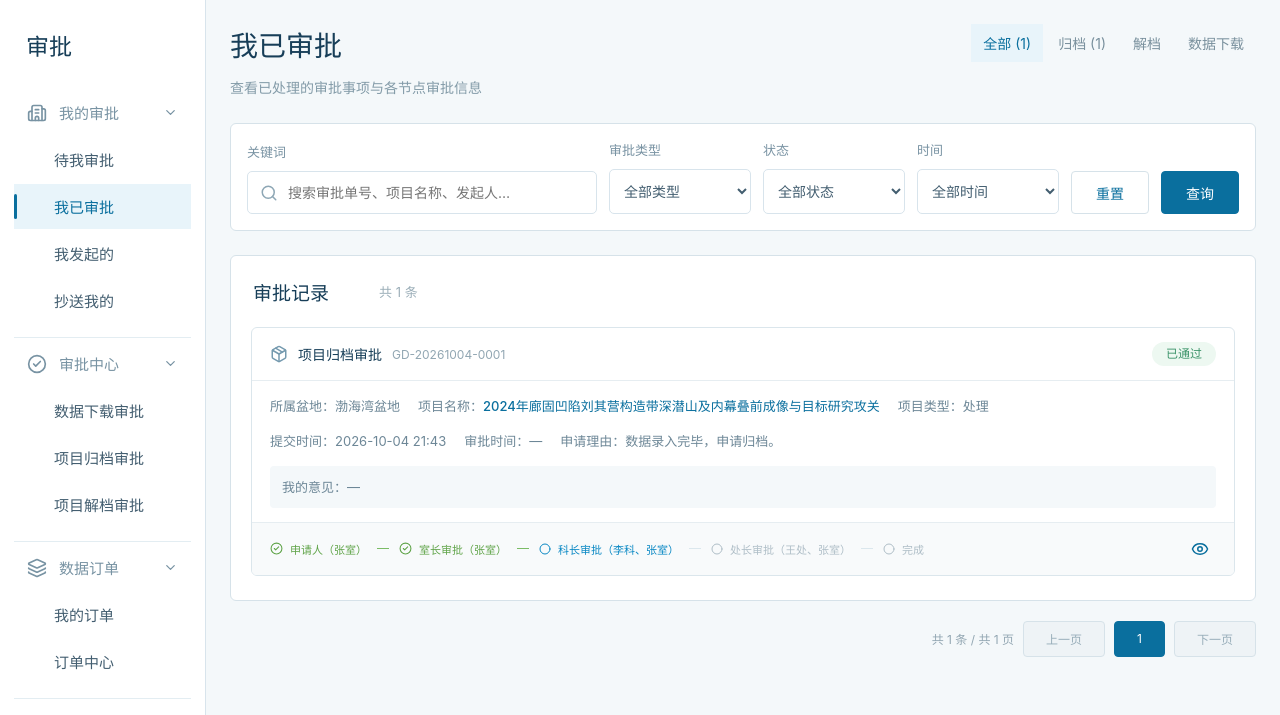
Scenario: 审批关键词、类型、状态与详情 › 已批支持关键词和类型组合，重置恢复；状态用单记录替代
Type "张室" into the field named "审批关键词" at x=436, y=193, box [288, 172, 584, 213]
Then press Enter
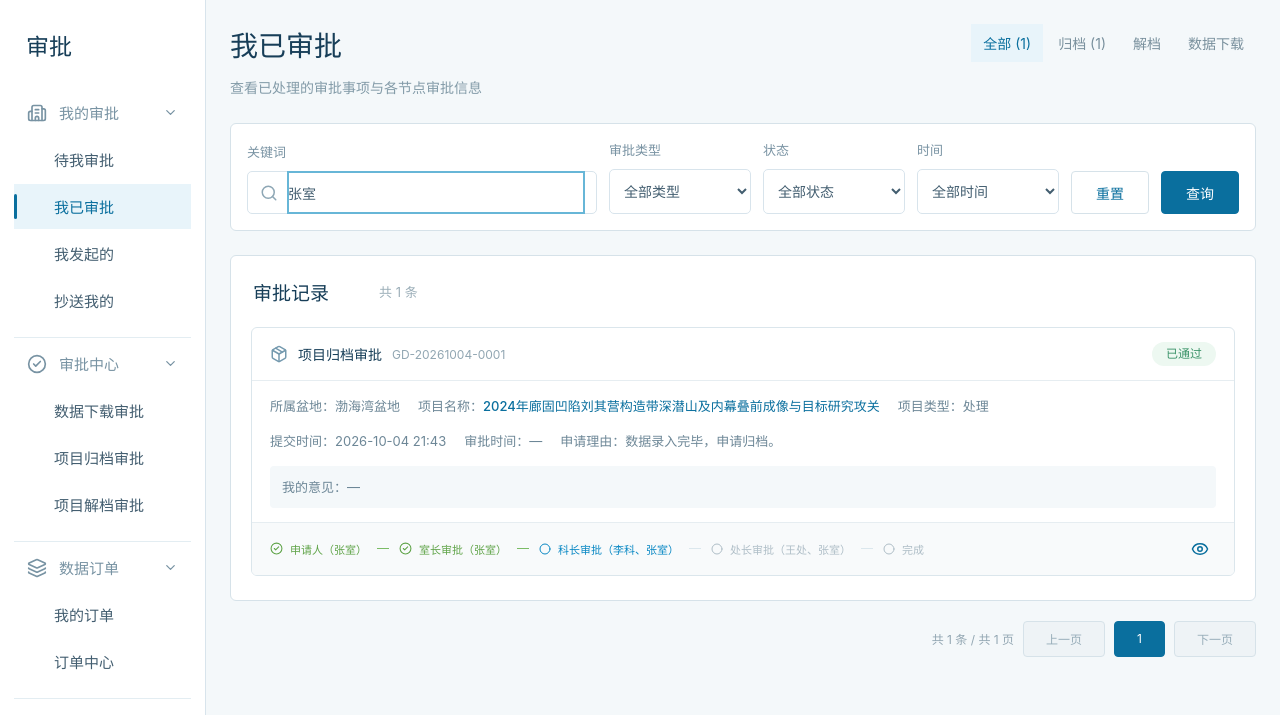
Expected: the text "GD-20261004-0001" is shown, [392, 347, 505, 362]
Select "数据下载审批" in the dropdown labelled "审批类型" at x=680, y=192, box [609, 169, 751, 214]
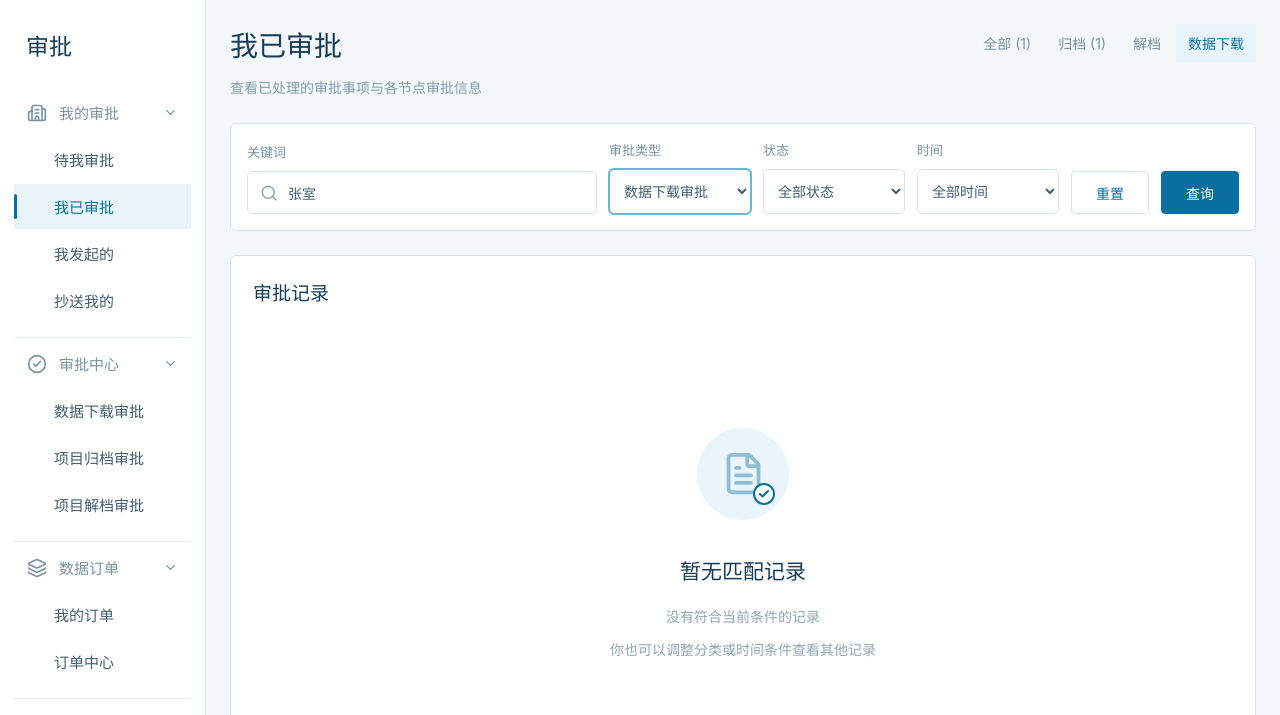
Now the heading "暂无匹配记录" is shown, box [680, 555, 806, 585]
Click the button "重置" at x=1110, y=193, box [1071, 171, 1149, 214]
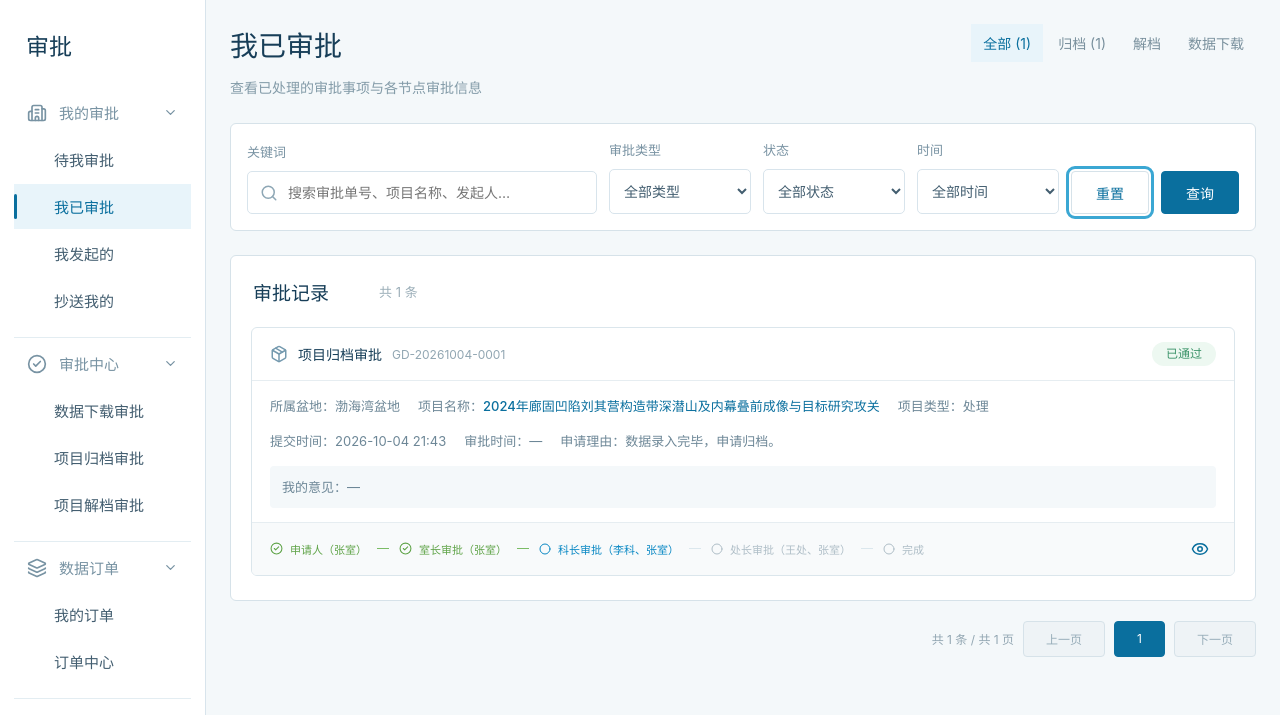
Select "已驳回" in the dropdown named "审批状态" at x=834, y=192, box [763, 169, 905, 214]
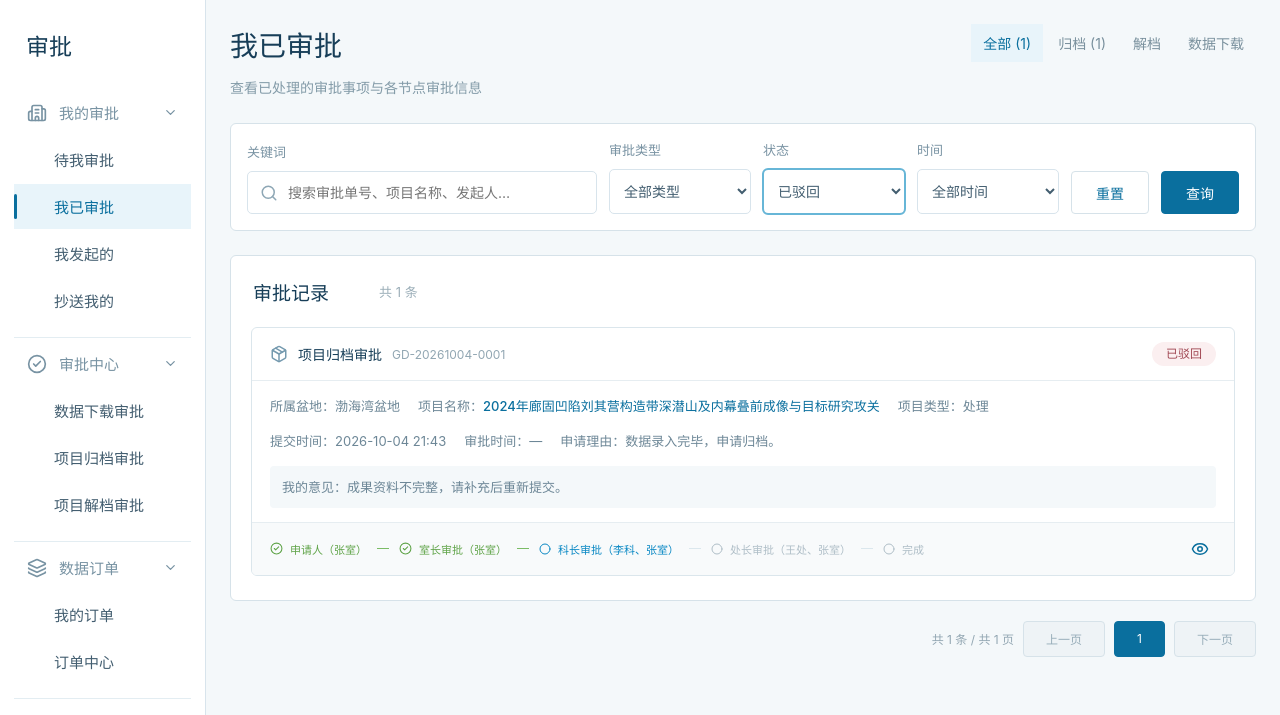
Now the text "GD-20261004-0001" is shown once, box [392, 347, 505, 362]
Now the text "已驳回" is shown, box [1152, 342, 1216, 366]
